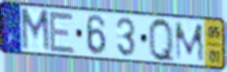3: (115, 16, 137, 59)
6: (85, 13, 109, 58)
E: (47, 9, 77, 56)
M: (19, 7, 52, 54), (173, 21, 207, 63)
Q: (147, 15, 177, 65)
